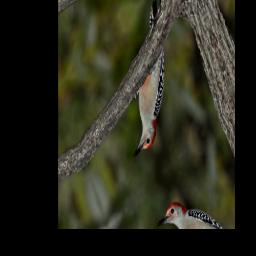Woodpecker: (96, 0, 194, 164)
